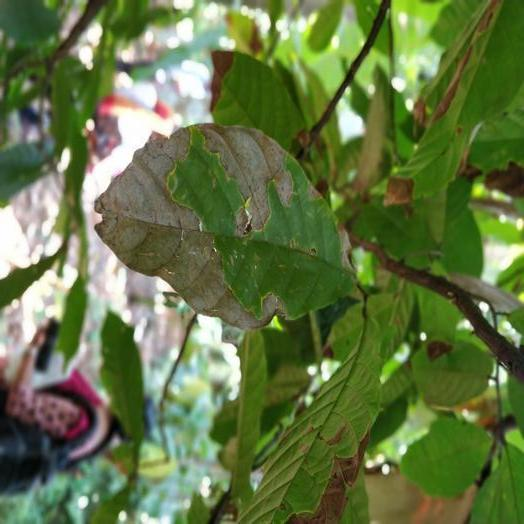Potassium: (96, 124, 352, 327)
